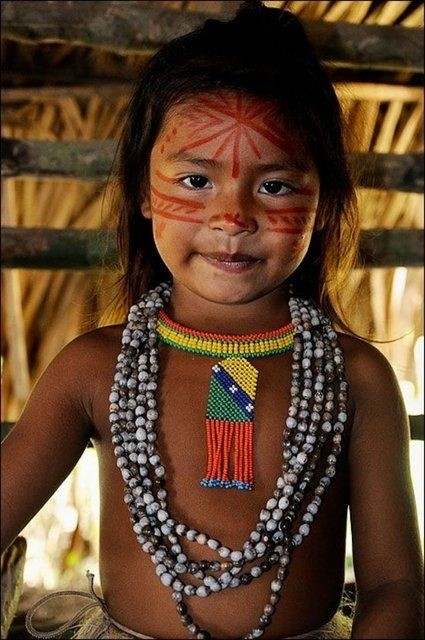face_no_mask: (133, 31, 341, 305)
